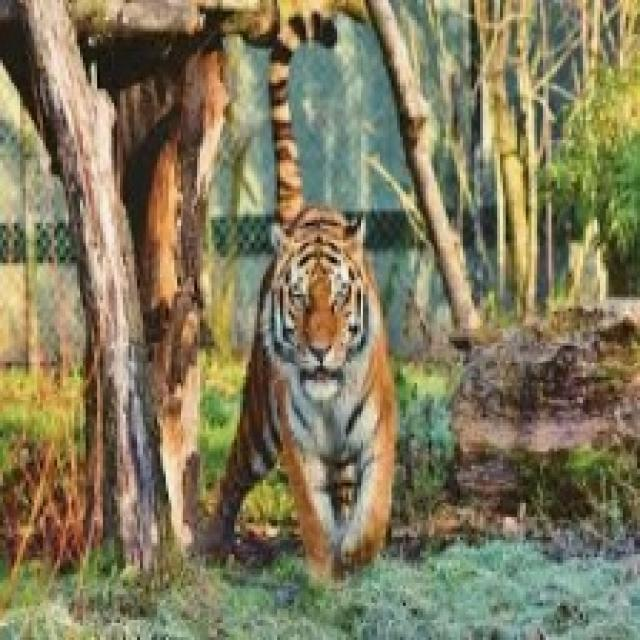bear: (200, 23, 487, 618)
